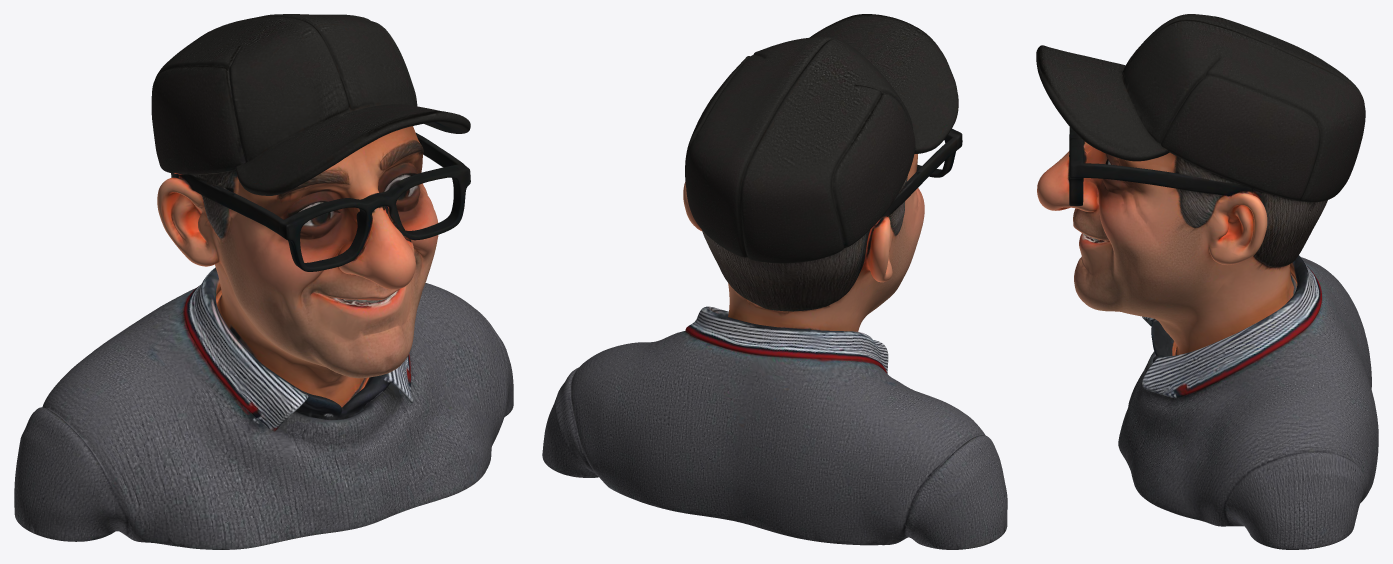
Rendered from avatar-standard.glb.
3 views of the same model, side by side, from view 1: azimuth 30°, elevation 25°; view 2: azimuth 150°, elevation 25°; view 3: azimuth 270°, elevation 25° (orthographic). The views are drawn at different scales.
Parts seen in each view (by area): view 1: node_8011be76-8303-41ab-b793-422bc4d35b3a; view 2: node_8011be76-8303-41ab-b793-422bc4d35b3a; view 3: node_8011be76-8303-41ab-b793-422bc4d35b3a.
Boxes of the visible parts, x1,y1,x2,y2 form: node_8011be76-8303-41ab-b793-422bc4d35b3a: (14,14,513,549); node_8011be76-8303-41ab-b793-422bc4d35b3a: (542,14,1007,549); node_8011be76-8303-41ab-b793-422bc4d35b3a: (1036,14,1378,549).
Size of the model in its own units: 0.6543 by 0.6 by 0.4426.
1 material, 1 textured.
